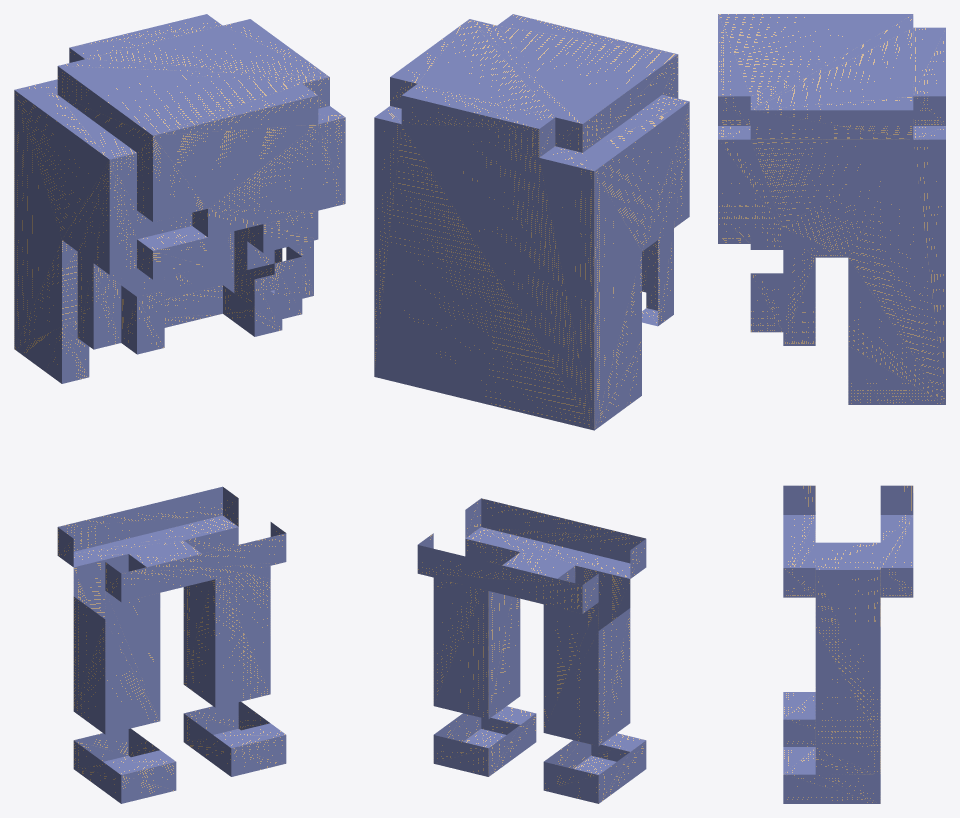
File: Character-18.obj
3 views of the same model, side by side, from view 1: azimuth 30°, elevation 25°; view 2: azimuth 150°, elevation 25°; view 3: azimuth 270°, elevation 25° (orthographic). The views are drawn at different scales.
Size of the model in its own units: 1 by 2.4 by 0.7.
1 material, 1 textured.
